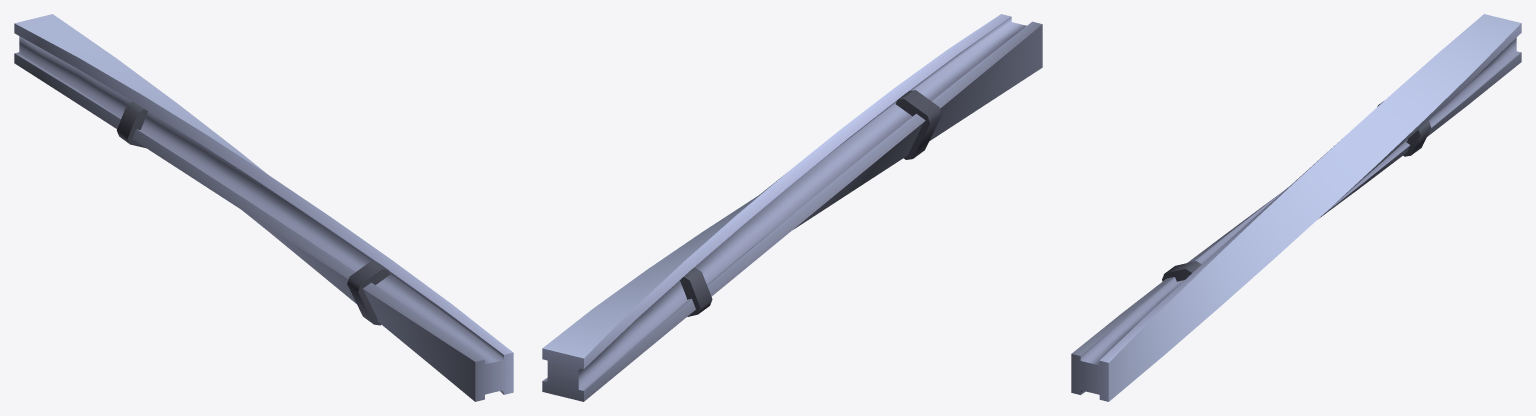
The model's file is coaster-monorail-straight-skew-left-side.glb.
3 views of the same model, side by side, from view 1: azimuth 30°, elevation 25°; view 2: azimuth 150°, elevation 25°; view 3: azimuth 330°, elevation 25° (orthographic). The views are drawn at different scales.
Parts seen in each view (by area): view 1: coaster-monorail-straight-skew-left-side; view 2: coaster-monorail-straight-skew-left-side; view 3: coaster-monorail-straight-skew-left-side.
Boxes of the visible parts, left/top/right/bottom form: coaster-monorail-straight-skew-left-side: left=14, top=14, right=513, bottom=401; coaster-monorail-straight-skew-left-side: left=542, top=14, right=1042, bottom=401; coaster-monorail-straight-skew-left-side: left=1071, top=14, right=1521, bottom=401.
Bounding box in the file's own units: 0.3369 × 0.3369 × 4.
1 material, 1 textured.
